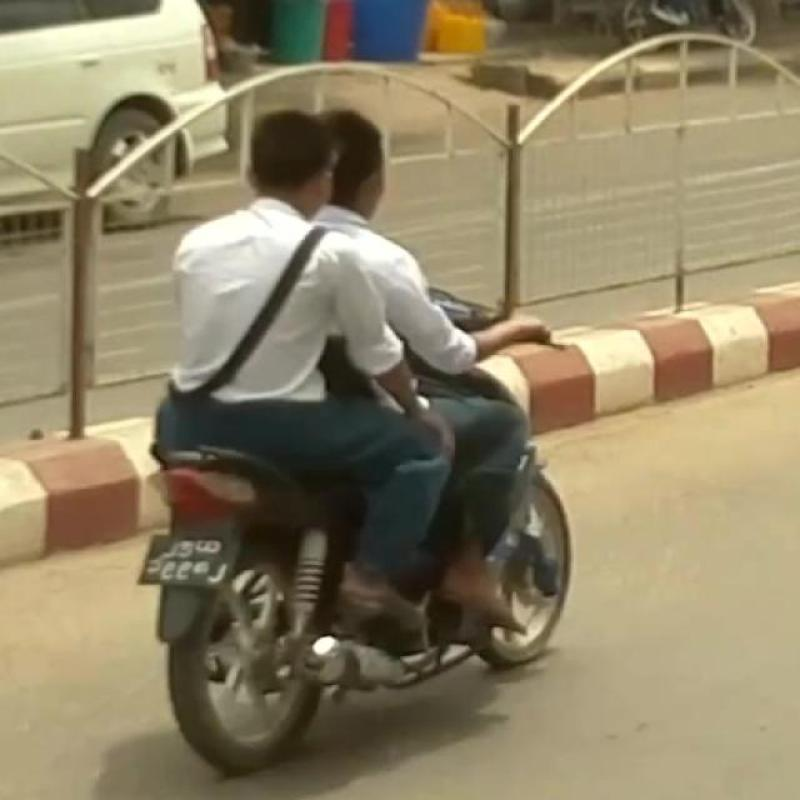nohelmet: (250, 86, 416, 268)
